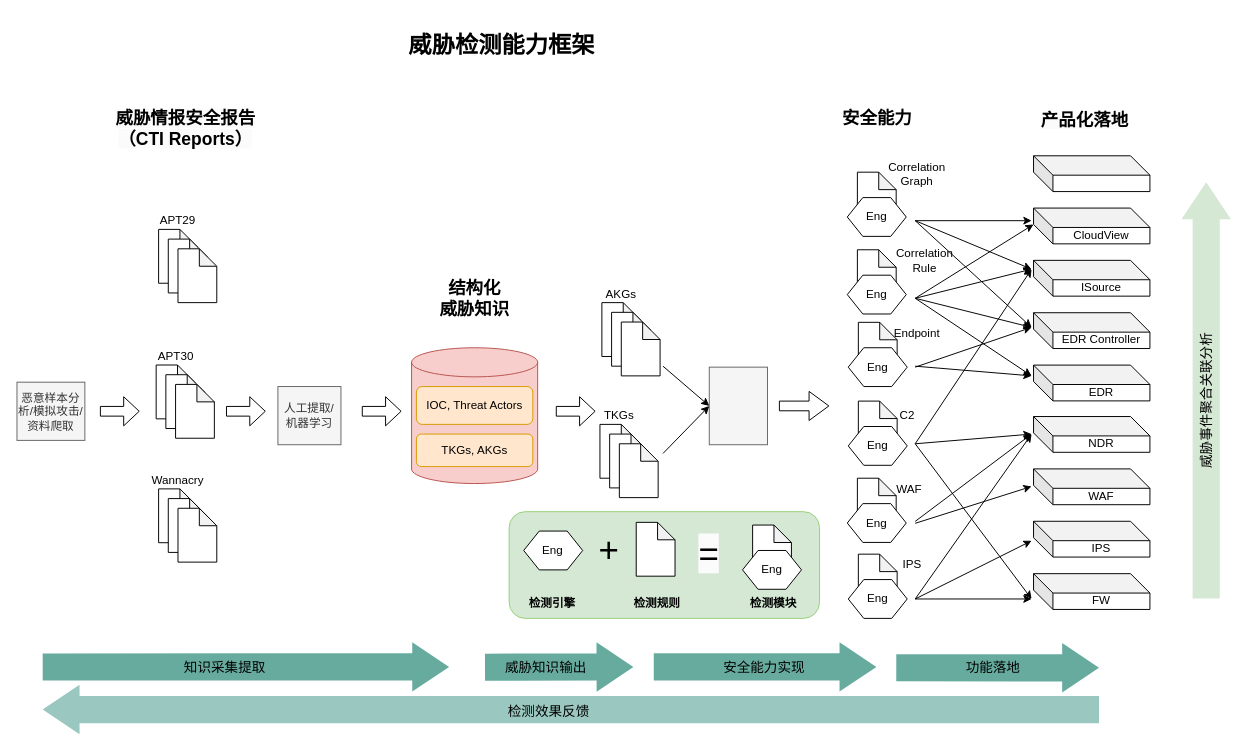
Some shapes in this 1247 by 751 pixel diagram are drawn without their labels. Here are the shapes that lost their labels. From the top down, the centre of each, then its label:
At (1091,173): "More".
At (737,405): "关联规则 检测图谱提取".
